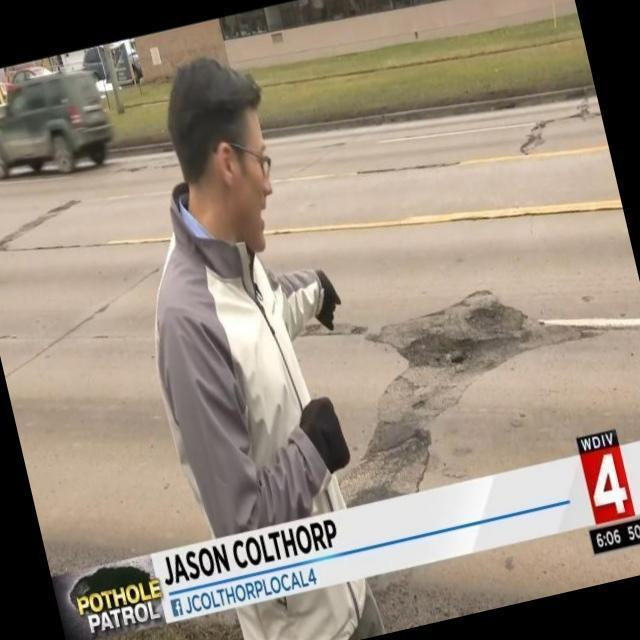Pothole: (372, 287, 586, 488)
